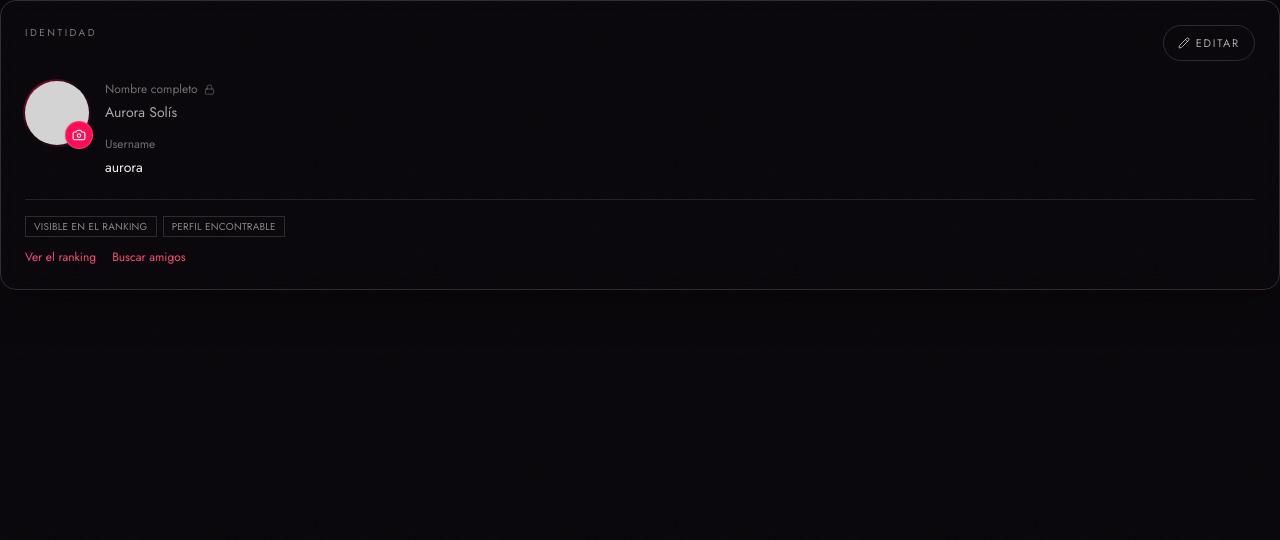
Test: IdentitySection › when saving fails › surfaces the message and keeps the attempted value
This screenshot has width=1280, height=540.
Click the button with aria-label "editar username": (1209, 43) [1163, 25, 1255, 61]
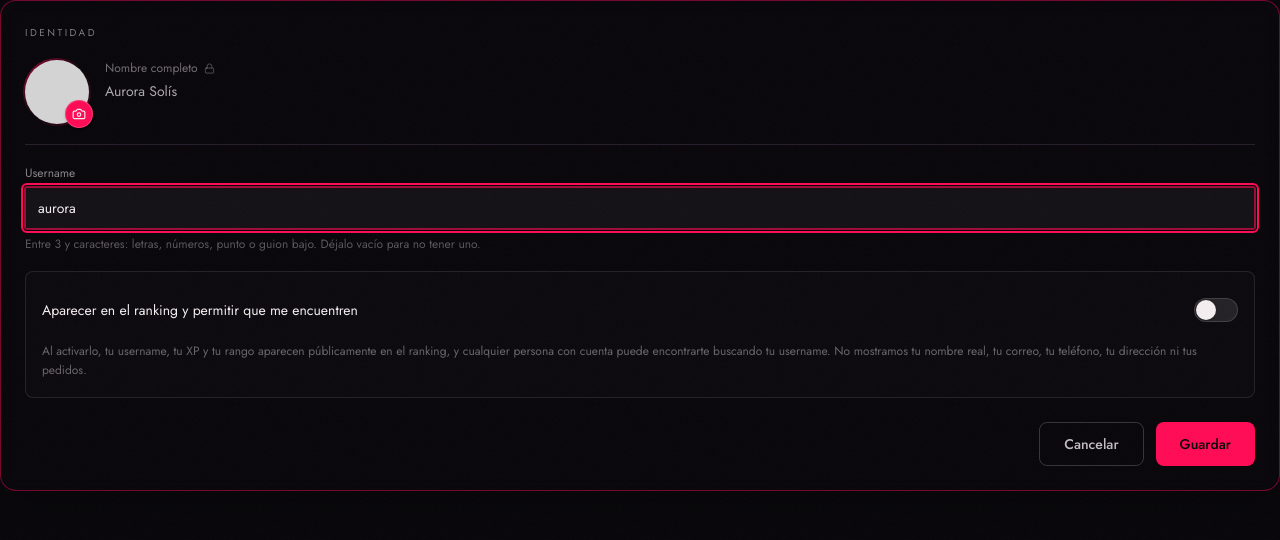
Replace the text in the field labelled "Username" with "tomada": (640, 208) [25, 187, 1255, 229]
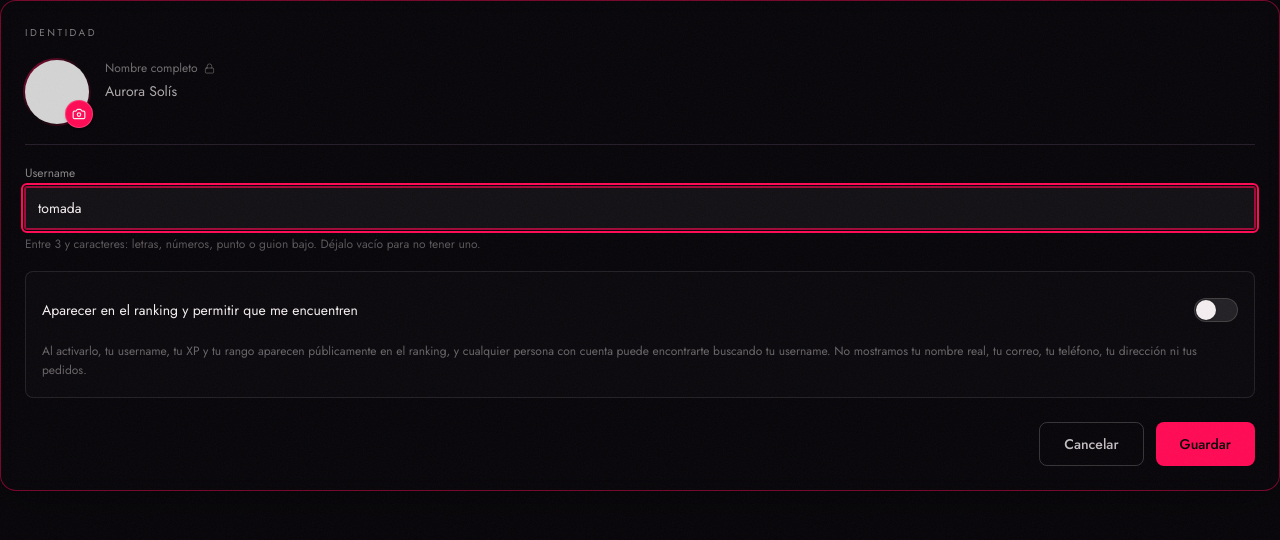
Click the button "Guardar": (1205, 444) [1156, 422, 1255, 466]
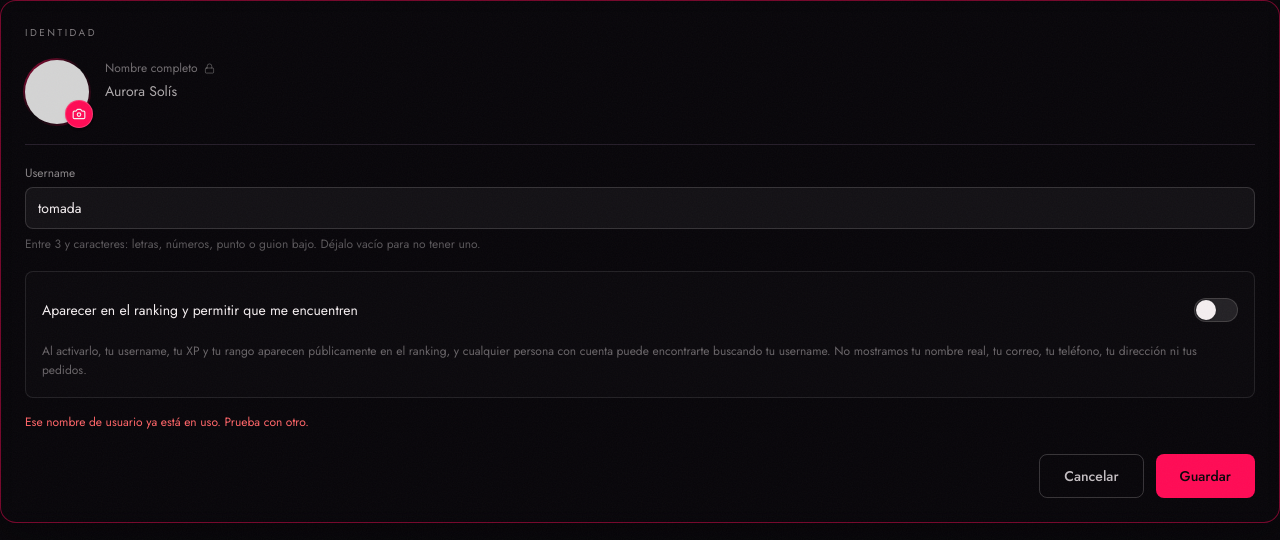
Now the message shows "ya está en uso", box [25, 412, 309, 430]
